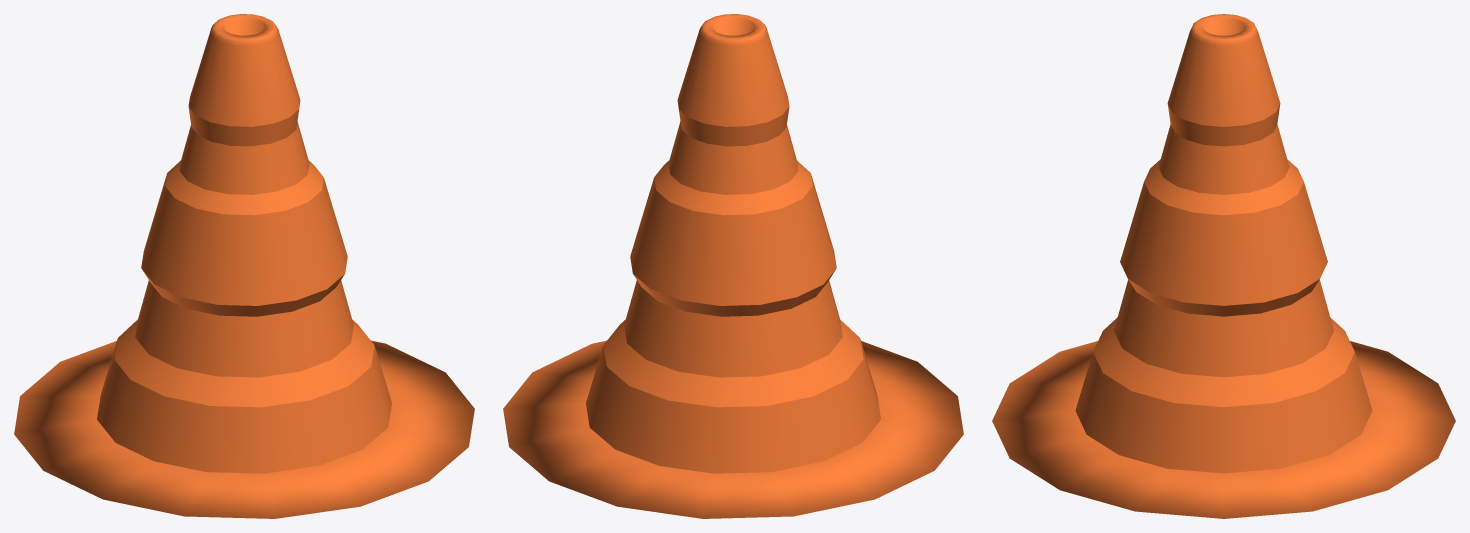
File: ConeTransito.gltf
3 renders of one model, left to right at view 1: azimuth 30°, elevation 25°; view 2: azimuth 150°, elevation 25°; view 3: azimuth 270°, elevation 25°, orthographic.
Visible parts, largest first — view 1: Cone; view 2: Cone; view 3: Cone.
Part boxes in pixels (x1,y1,x2,y2): Cone: [14, 14, 474, 518]; Cone: [503, 14, 963, 518]; Cone: [992, 14, 1455, 518].
Size of the model in its own units: 2.13 by 2 by 2.13.
Materials: 1 (1 with a texture image).
